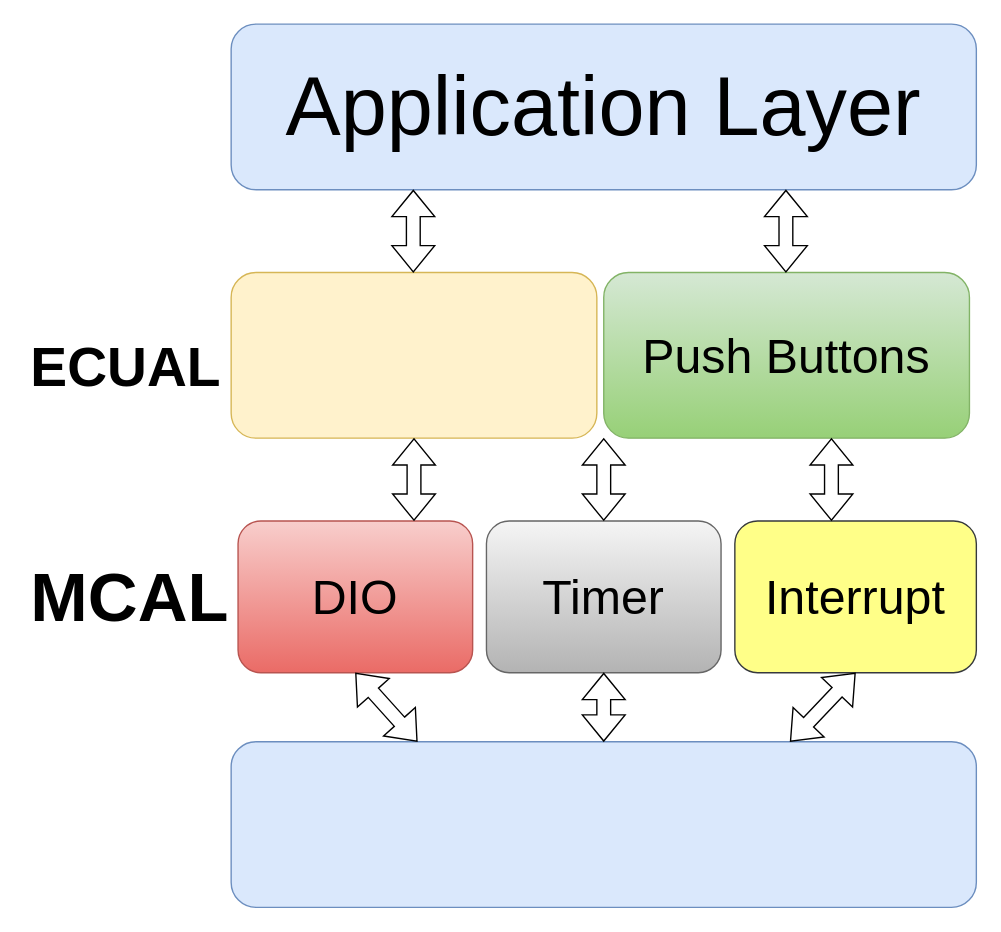
The diagram is 1001 pixels wide and 932 high, and some of its shapes have lost their labels. Each missing label, with the centre of its shape:
"LEDs" goes at (x=413, y=354).
"Microcontroller" goes at (x=603, y=823).
